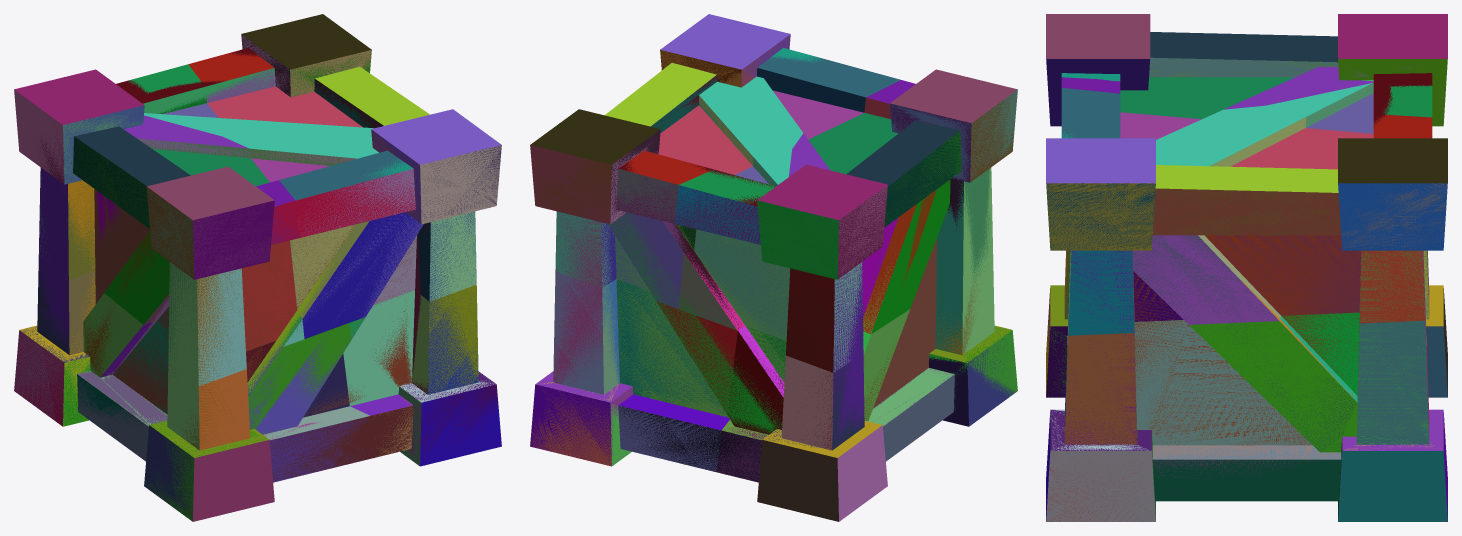
File: DemoCrate1_Complete.fbx
The picture shows the model from 3 angles, left to right: view 1: azimuth 30°, elevation 25°; view 2: azimuth 150°, elevation 25°; view 3: azimuth 270°, elevation 25°; orthographic projection. The views are drawn at different scales.
Visible parts, largest first — view 1: DemoCrate1_Solid, DemoCrate1_Exploded4, DemoCrate1_Exploded2, DemoCrate1_Exploded3, DemoCrate1_Exploded1; view 2: DemoCrate1_Solid, DemoCrate1_Exploded2, DemoCrate1_Exploded4, DemoCrate1_Exploded3, DemoCrate1_Exploded1; view 3: DemoCrate1_Exploded4, DemoCrate1_Exploded1, DemoCrate1_Solid, DemoCrate1_Exploded2, DemoCrate1_Exploded3.
Part boxes in pixels (box(x1,y1,x2,y2)): DemoCrate1_Solid: box(14, 34, 501, 518); DemoCrate1_Exploded4: box(188, 14, 501, 338); DemoCrate1_Exploded2: box(14, 64, 304, 386); DemoCrate1_Exploded3: box(14, 257, 369, 521); DemoCrate1_Exploded1: box(343, 284, 498, 462); DemoCrate1_Solid: box(530, 34, 1017, 481); DemoCrate1_Exploded2: box(674, 69, 1017, 372); DemoCrate1_Exploded4: box(530, 14, 900, 308); DemoCrate1_Exploded3: box(716, 280, 1017, 521); DemoCrate1_Exploded1: box(530, 271, 737, 471); DemoCrate1_Exploded4: box(1046, 88, 1447, 335); DemoCrate1_Exploded1: box(1046, 312, 1447, 521); DemoCrate1_Solid: box(1046, 61, 1447, 521); DemoCrate1_Exploded2: box(1046, 14, 1447, 133); DemoCrate1_Exploded3: box(1046, 250, 1447, 397).
Size of the model in its own units: 261 by 244 by 262.
